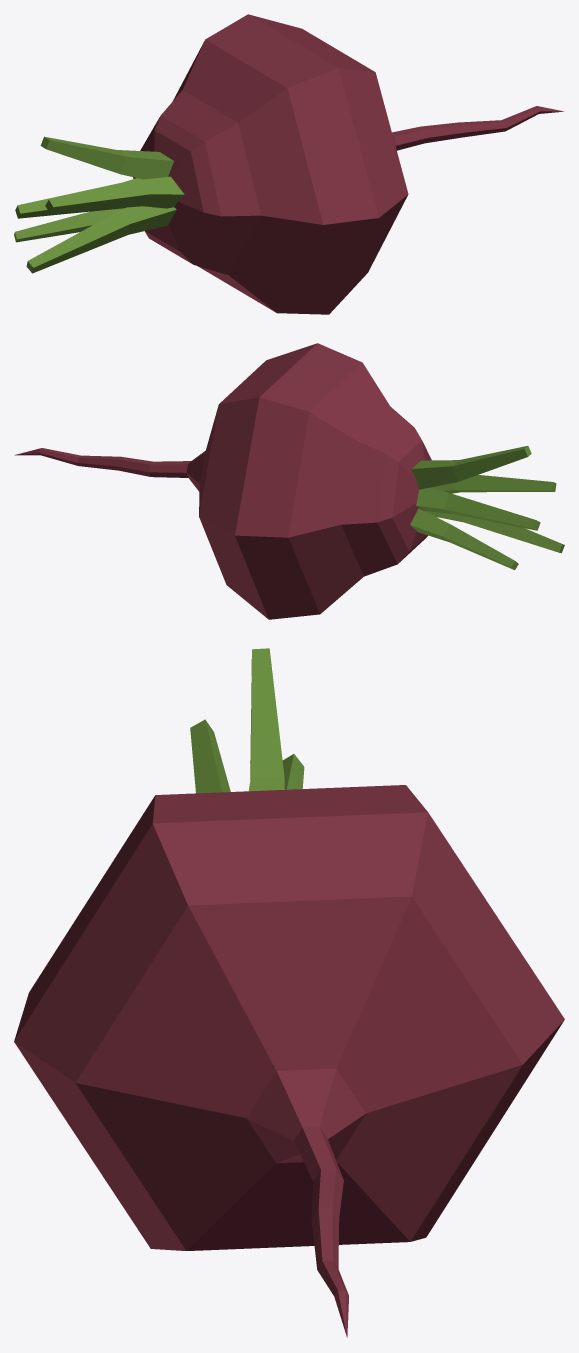
The model's file is Food_beet.glb.
The picture shows the model from 3 angles, top to bottom: view 1: azimuth 30°, elevation 25°; view 2: azimuth 150°, elevation 25°; view 3: azimuth 270°, elevation 25°; orthographic projection. The views are drawn at different scales.
Parts seen in each view (by area): view 1: beet; view 2: beet; view 3: beet.
Part boxes in pixels (box(x1,y1,x2,y2)): beet: box(14, 14, 564, 314); beet: box(14, 343, 564, 619); beet: box(14, 648, 564, 1337).
Bounding box in the file's own units: 0.3601 × 0.1468 × 0.1689.
1 material, 1 textured.
